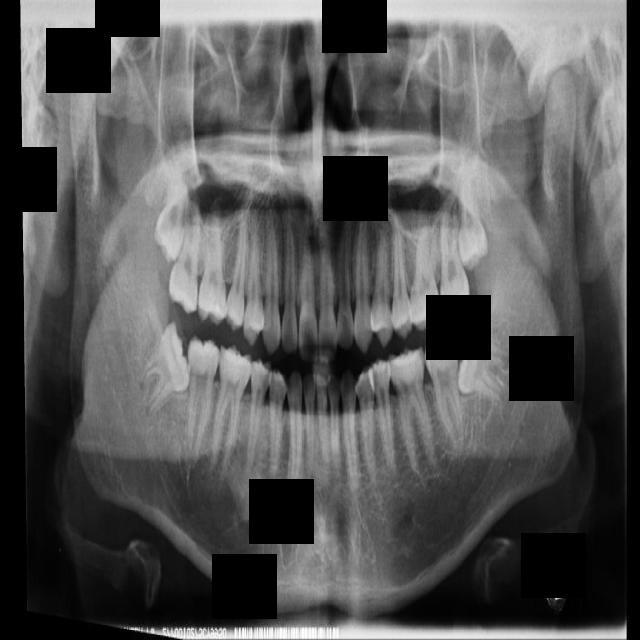3M ESPE Implant: (152, 172, 188, 263)
52: (384, 345, 434, 393), (366, 357, 396, 395)
73: (584, 542, 596, 546)
BioHorizons Implant: (438, 205, 470, 320)
BioLife Implant: (458, 173, 488, 271)
Biomet 3i Implant: (451, 321, 516, 402)
Blue Sky Bio Implant: (424, 334, 464, 449)
Caries: (167, 194, 204, 315)
Implant: (171, 334, 222, 459)
Keystone Dental Implant: (126, 319, 210, 425)
